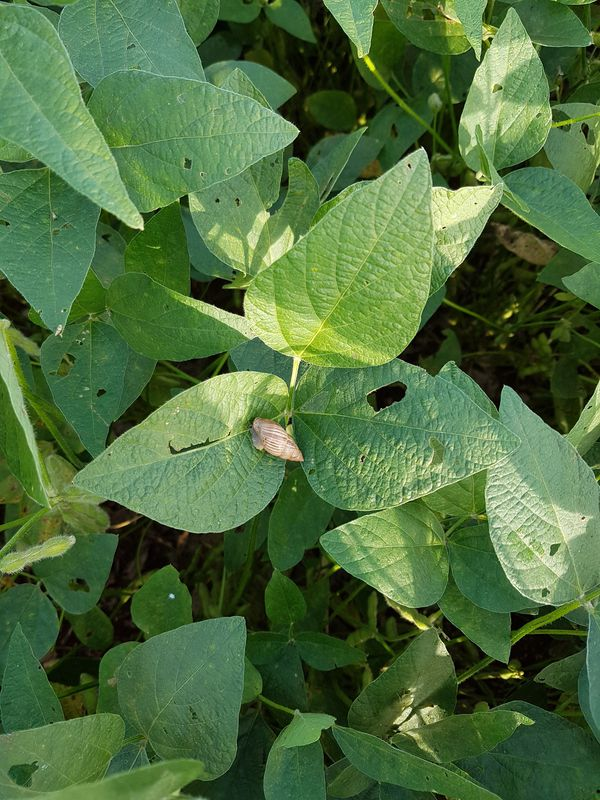Gastropoda: (237, 409, 312, 480)
